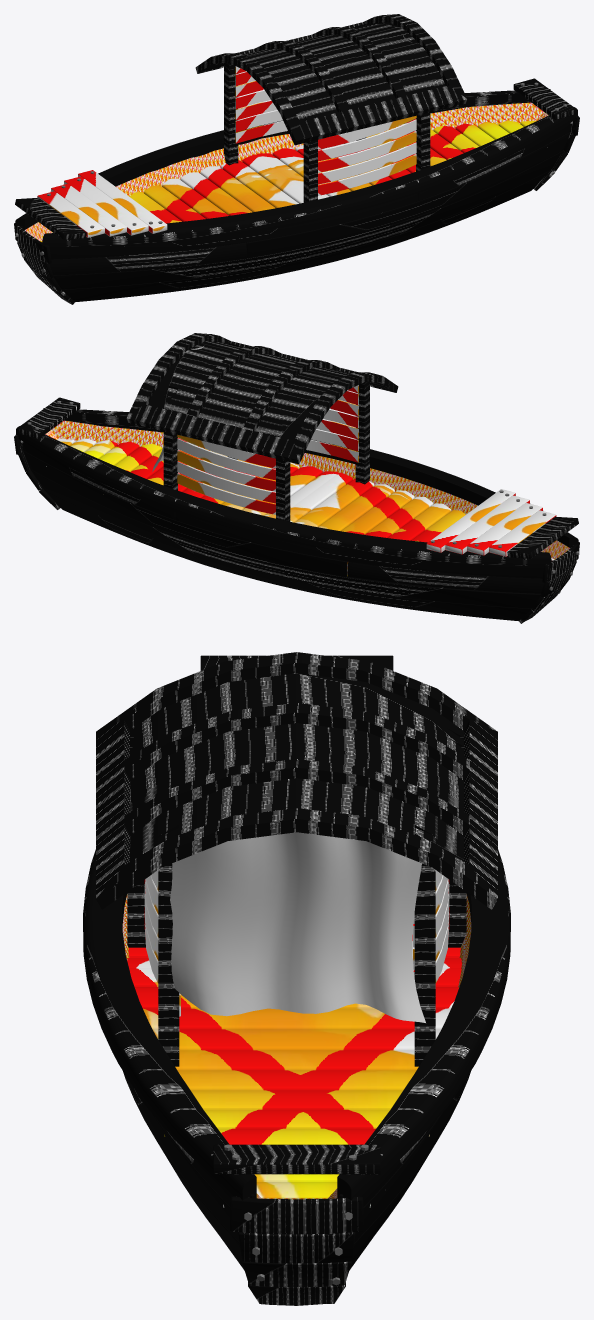
File: r1boat.FBX
3 views of the same model, one above another, from view 1: azimuth 30°, elevation 25°; view 2: azimuth 150°, elevation 25°; view 3: azimuth 270°, elevation 25° (orthographic). The views are drawn at different scales.
Visible parts, largest first — view 1: Object08; view 2: Object08; view 3: Object08.
Part boxes in pixels (box(x1,y1,x2,y2)): Object08: box(14, 14, 579, 304); Object08: box(14, 333, 579, 623); Object08: box(83, 652, 510, 1305).
Bounding box in the file's own units: 135 × 45.34 × 46.39.
